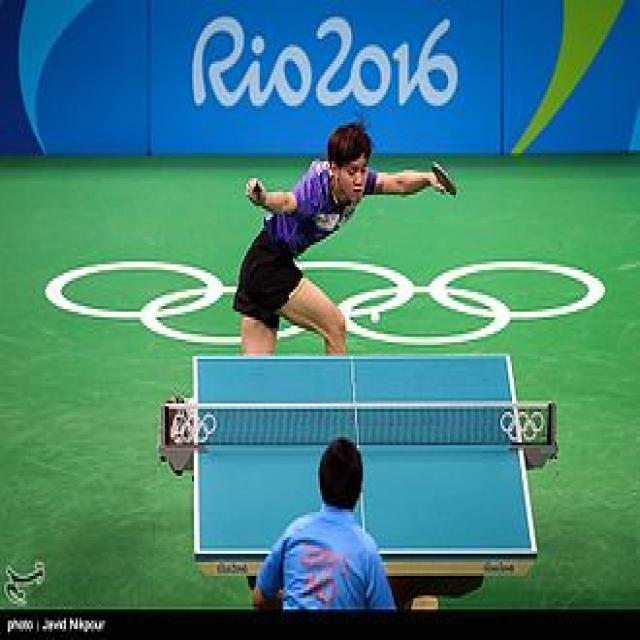TT Net: (158, 400, 558, 456)
TT Racket: (426, 155, 463, 203)
TT Table: (194, 355, 538, 555)
